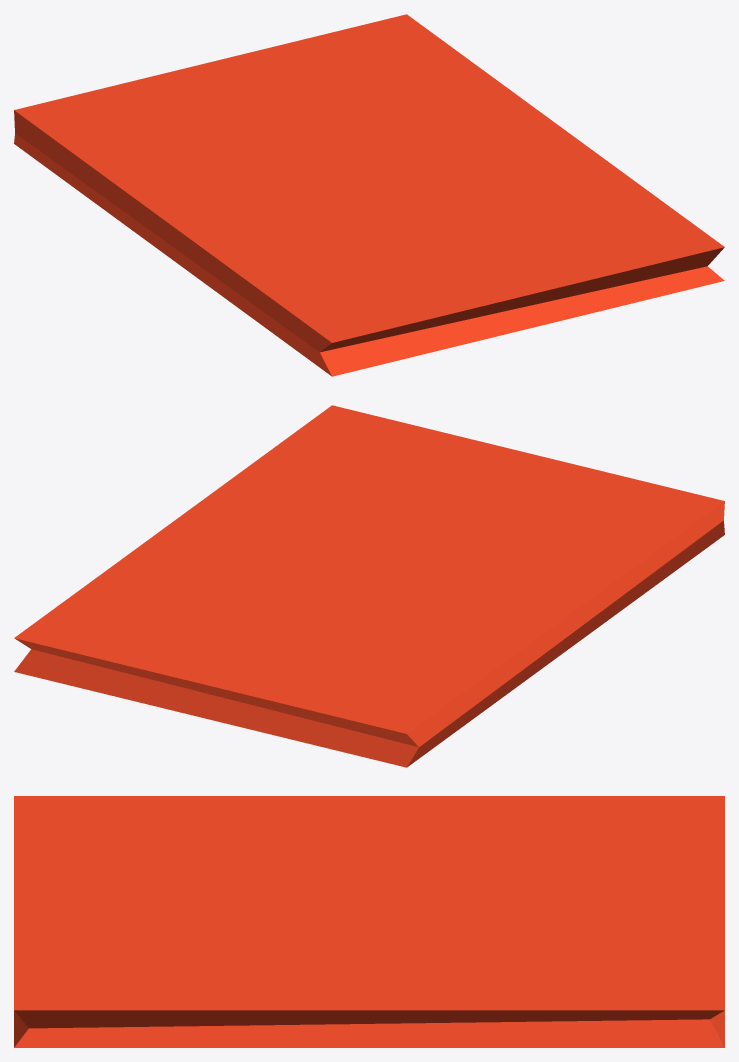
Rendered from SM_Newspaper_Cool_City.fbx.
3 views of the same model, one above another, from view 1: azimuth 30°, elevation 25°; view 2: azimuth 150°, elevation 25°; view 3: azimuth 270°, elevation 25° (orthographic). The views are drawn at different scales.
Visible parts, largest first — view 1: SM_Newspaper_Cool_City; view 2: SM_Newspaper_Cool_City; view 3: SM_Newspaper_Cool_City.
Part boxes in pixels (x1,y1,x2,y2): SM_Newspaper_Cool_City: (14, 14, 724, 376); SM_Newspaper_Cool_City: (14, 405, 724, 767); SM_Newspaper_Cool_City: (14, 796, 724, 1047).
Size of the model in its own units: 0.2784 by 0.0225 by 0.385.
